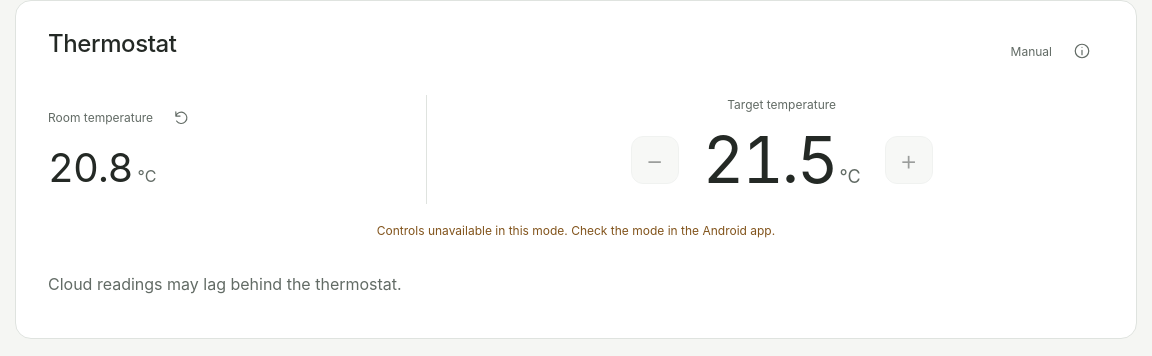
it: shows cloud readings without temperature controls or a false synced checkpoint
Click the button named "Increase target temperature by 0.5 degrees".
click(908, 160)  # box [884,136,932,184]
Wait 1000 ms
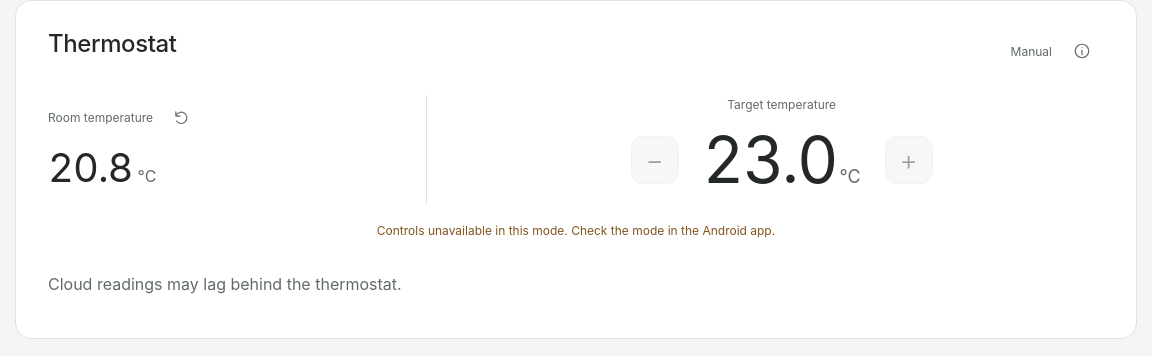
Check: the element named "Desired target temperature" shows "23.0", box [703,121,836,198]
